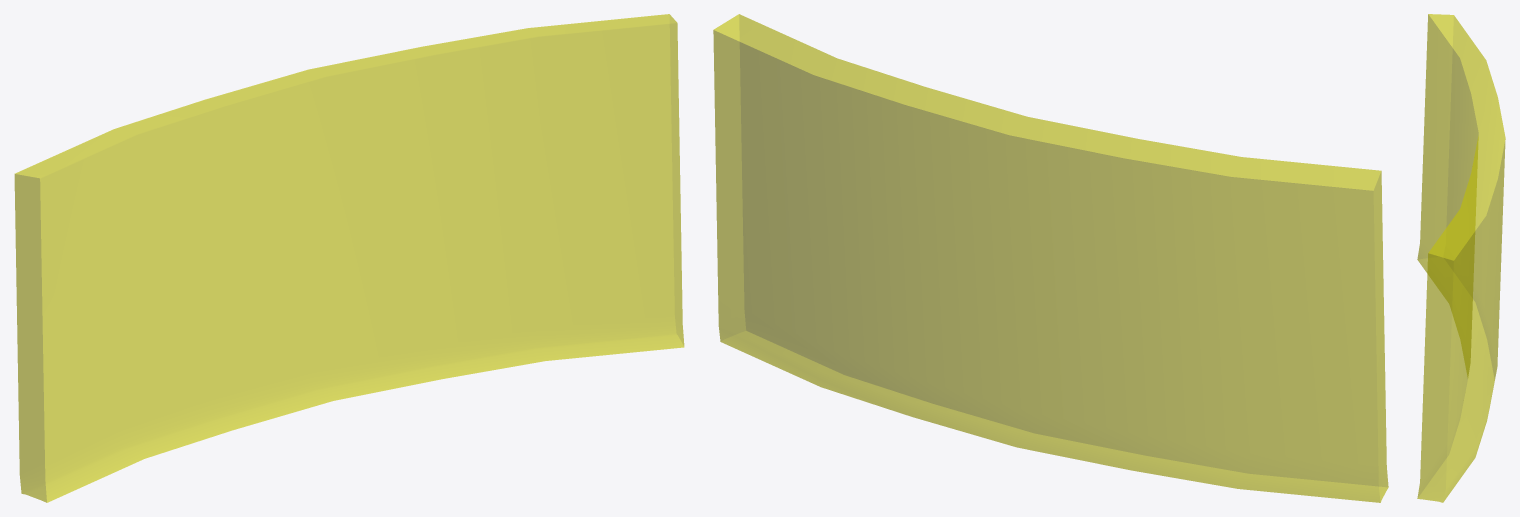
The model's file is display_box_002.fbx.
3 views of the same model, side by side, from view 1: azimuth 30°, elevation 25°; view 2: azimuth 150°, elevation 25°; view 3: azimuth 270°, elevation 25° (orthographic). The views are drawn at different scales.
Parts seen in each view (by area): view 1: polySurface7; view 2: polySurface7; view 3: polySurface7.
Boxes of the visible parts, x1=… form: polySurface7: x1=14, y1=14, x2=684, y2=502; polySurface7: x1=713, y1=14, x2=1388, y2=502; polySurface7: x1=1417, y1=14, x2=1505, y2=502.
Bounding box in the file's own units: 6.46 × 3.02 × 0.9798.
